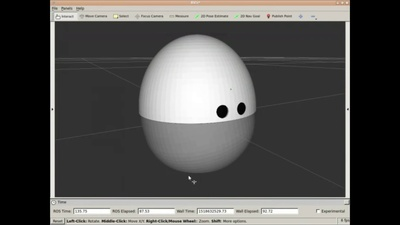mira_robot: (139, 34, 256, 173)
